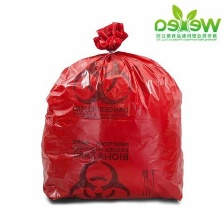plastic_bag: (25, 16, 197, 210)
